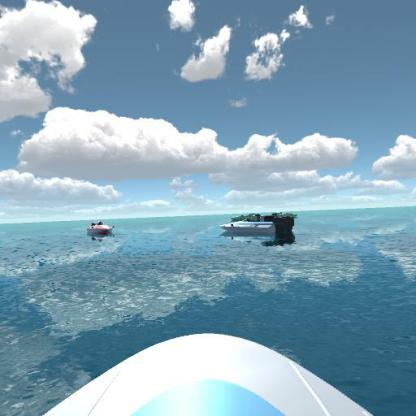usv0: (270, 204, 300, 220), (228, 207, 258, 222)
usv1: (215, 213, 297, 246)
usv3: (84, 218, 114, 240)
